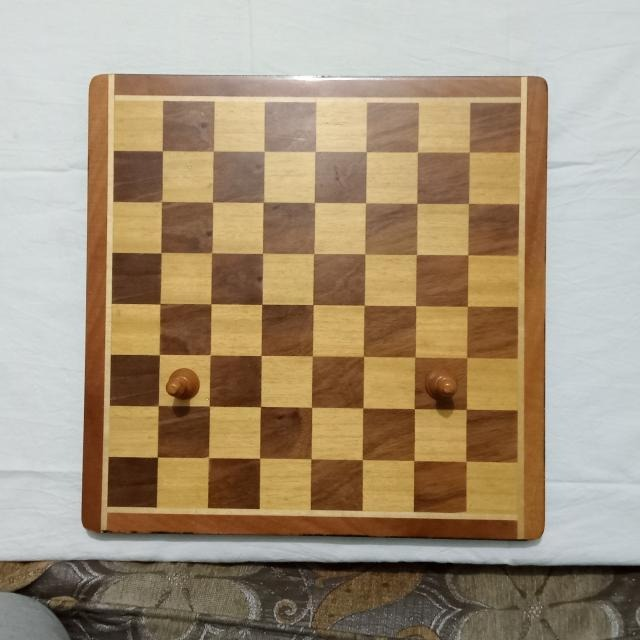white-pawn: (162, 364, 201, 399), (424, 363, 459, 400)
